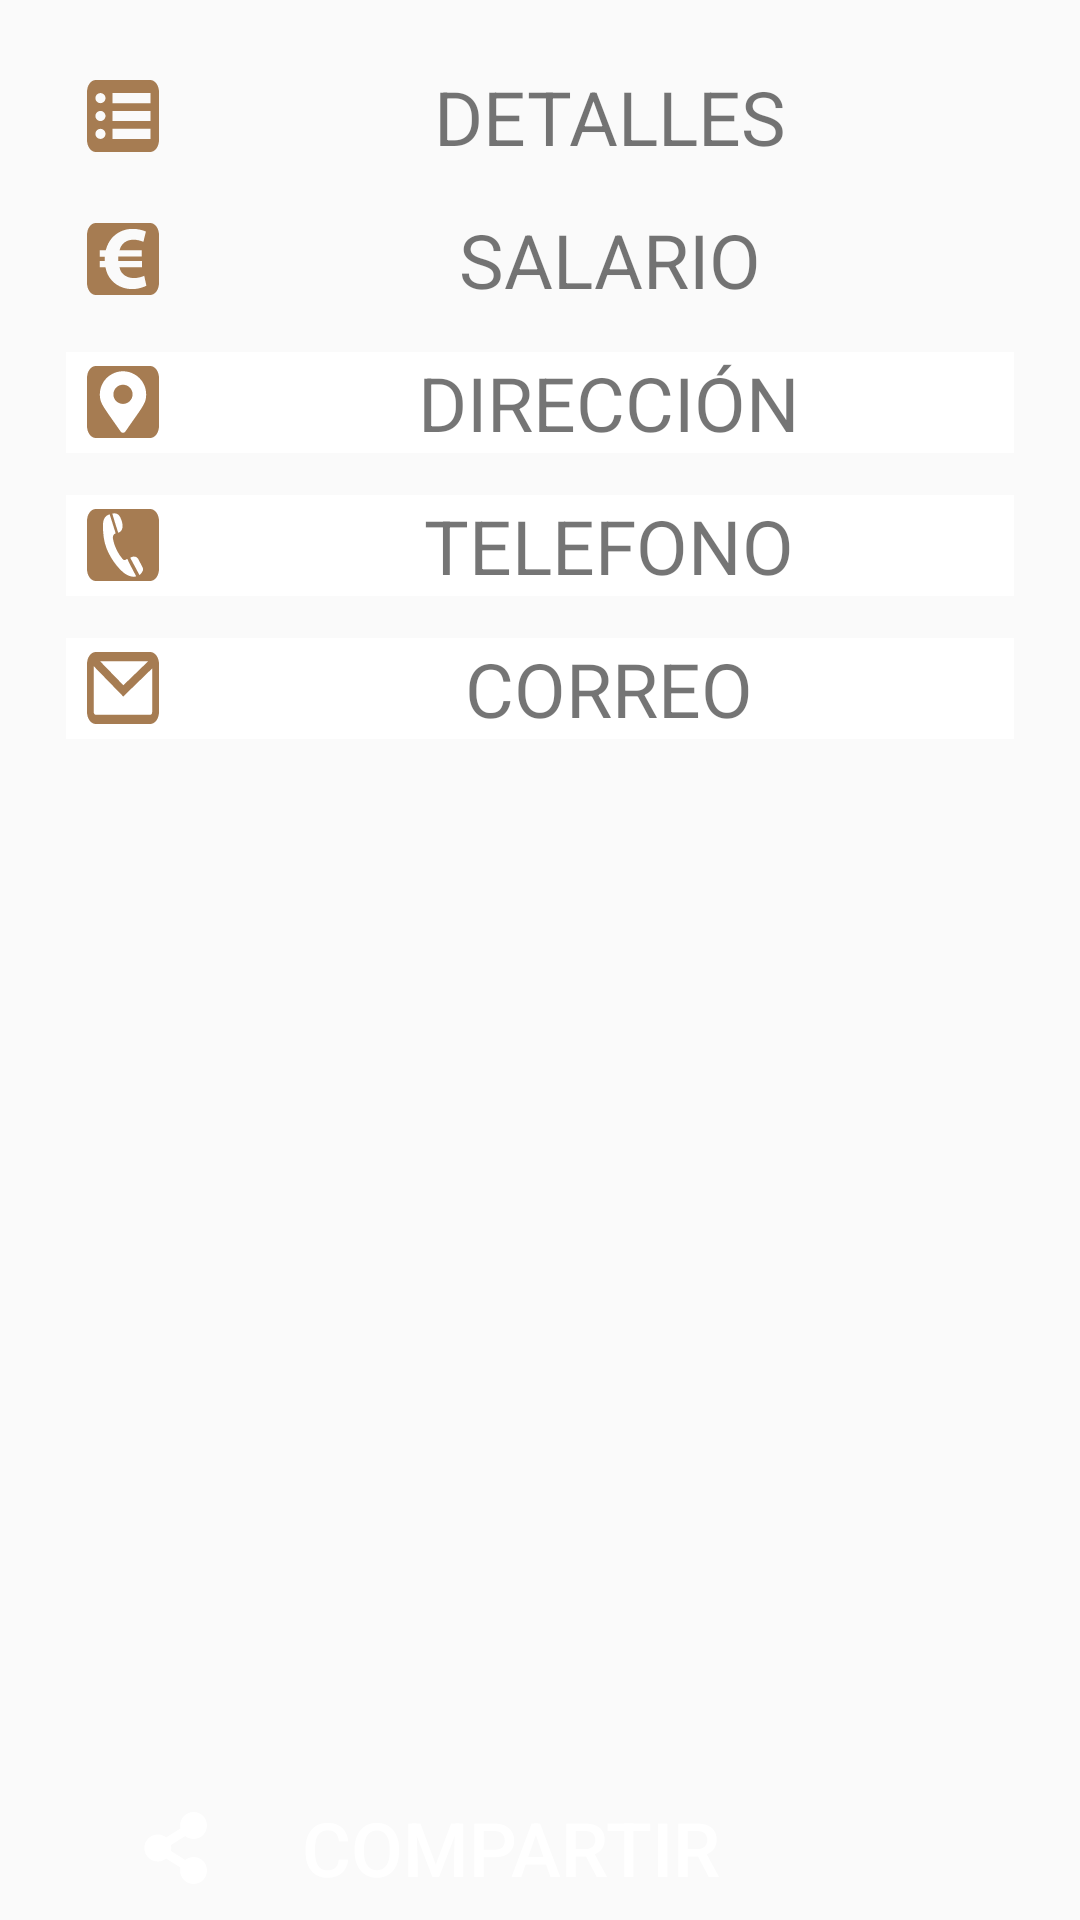

Where icons sit on this 1080w x 1920h app screen, as (x1, y1, x2, y2):
descripcion: (87, 80, 159, 152)
direccion: (87, 366, 159, 438)
